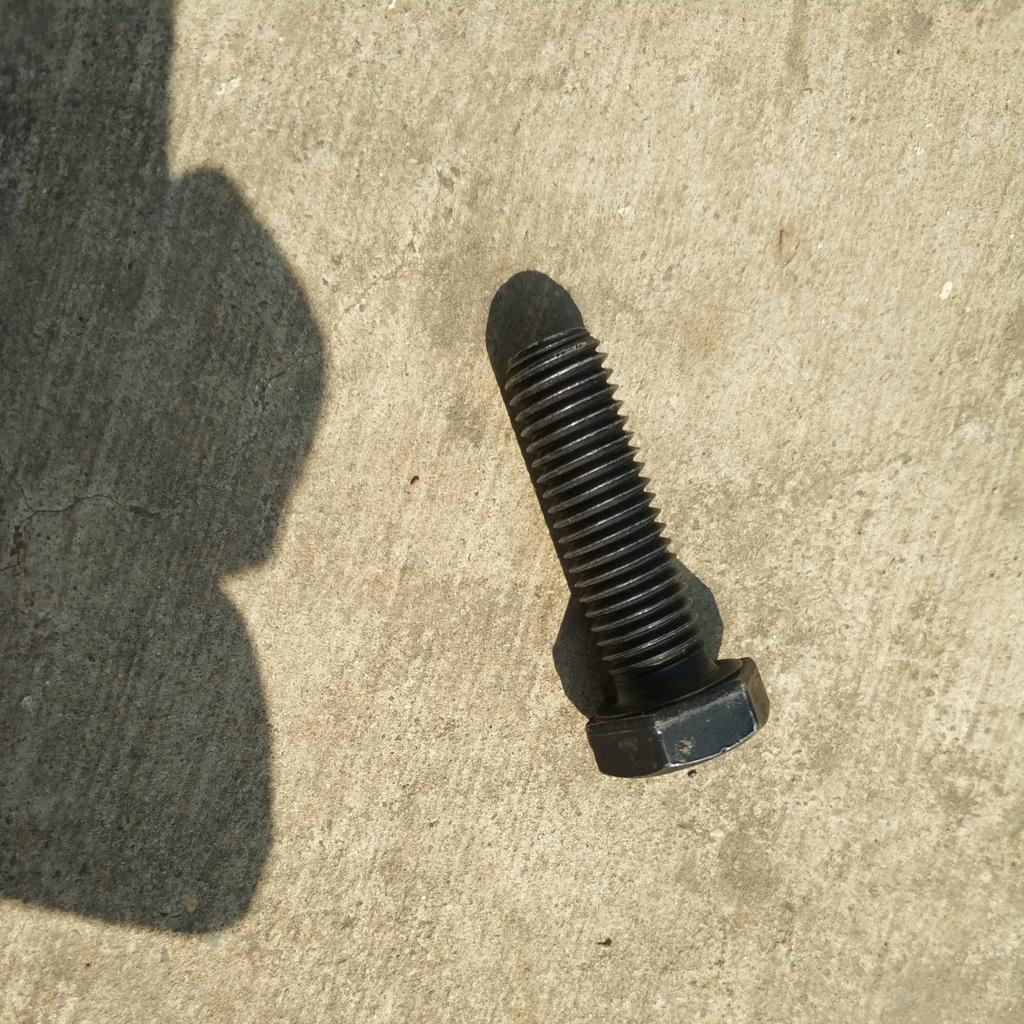screwtype2black: (490, 318, 778, 788)
